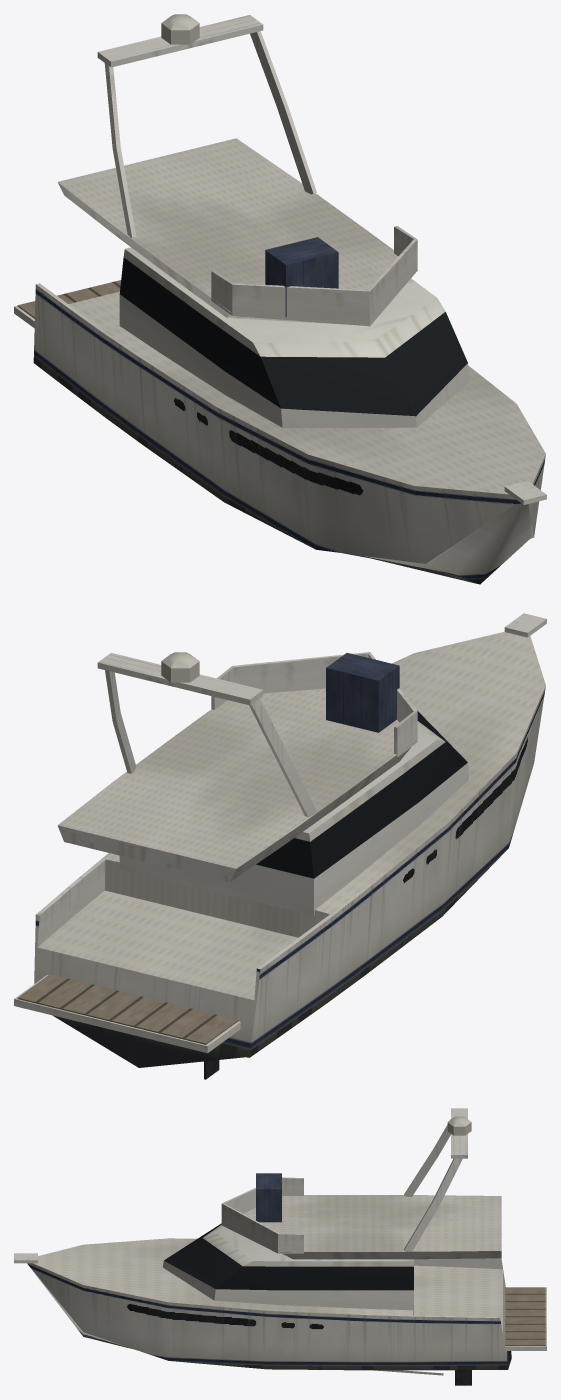
File: motorYacht-a-lod2.glb
The picture shows the model from 3 angles, top to bottom: view 1: azimuth 30°, elevation 25°; view 2: azimuth 150°, elevation 25°; view 3: azimuth 270°, elevation 25°; orthographic projection. The views are drawn at different scales.
Parts seen in each view (by area): view 1: Superstructure, Hull; view 2: Hull, Superstructure; view 3: Hull, Superstructure.
Boxes of the visible parts, x1,y1,x2,y2 form: Superstructure: (57, 14, 468, 427); Hull: (14, 280, 546, 584); Hull: (14, 613, 546, 1079); Superstructure: (57, 652, 468, 915); Hull: (14, 1238, 546, 1385); Superstructure: (163, 1108, 501, 1313).
Bounding box in the file's own units: 4.2 × 7.07 × 13.28.
1 material, 1 textured.
